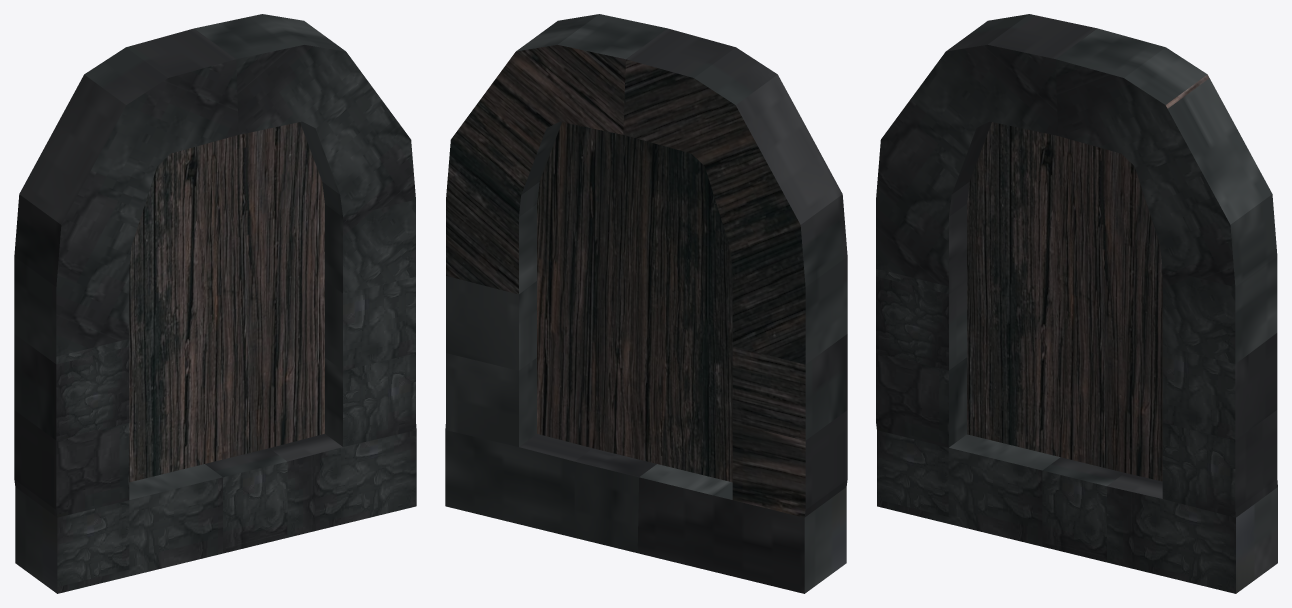
The model's file is wINDOW.fbx.
3 views of the same model, side by side, from view 1: azimuth 30°, elevation 25°; view 2: azimuth 150°, elevation 25°; view 3: azimuth 330°, elevation 25° (orthographic).
Visible parts, largest first — view 1: Cube.006, Cube.001; view 2: Cube.006, Cube.001; view 3: Cube.006, Cube.001.
Boxes of the visible parts, box(x1,y1,x2,y2) form: Cube.006: box(14, 14, 416, 593); Cube.001: box(129, 122, 324, 482); Cube.006: box(445, 14, 847, 593); Cube.001: box(537, 122, 732, 482); Cube.006: box(876, 14, 1277, 593); Cube.001: box(967, 122, 1162, 481).
Size of the model in its own units: 145 by 189 by 29.61.
2 materials, 2 textured.
